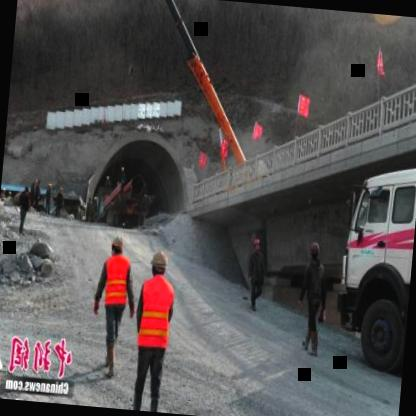helmet: (145, 246, 172, 282), (110, 232, 127, 257), (308, 239, 323, 261), (252, 235, 262, 256)
